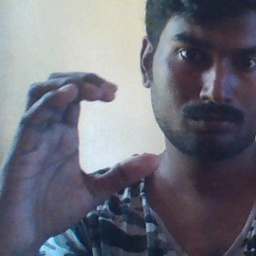C: (24, 65, 159, 194)
